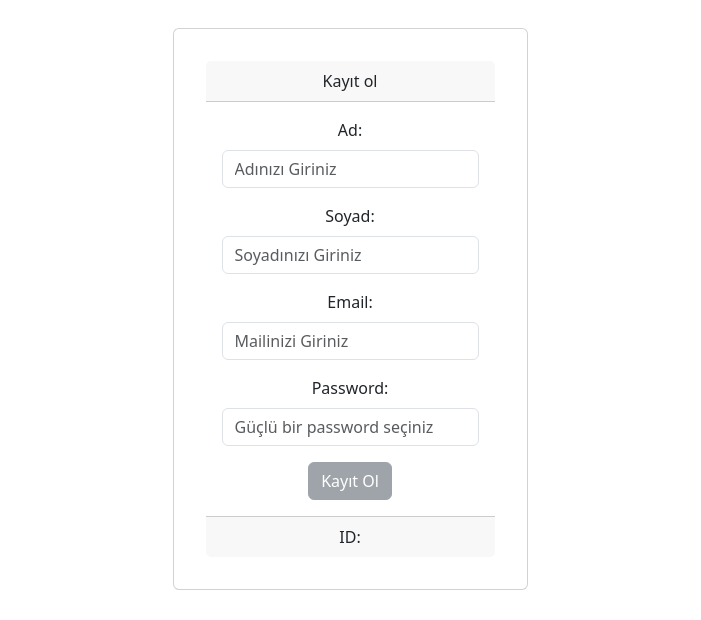
Test: hw-cı Page › Error Messages › password input thr0ws error for 1234
Type "1234" into the password field with test id "password-input".
click(351, 427); type("1234")  # box [222,408,479,446]
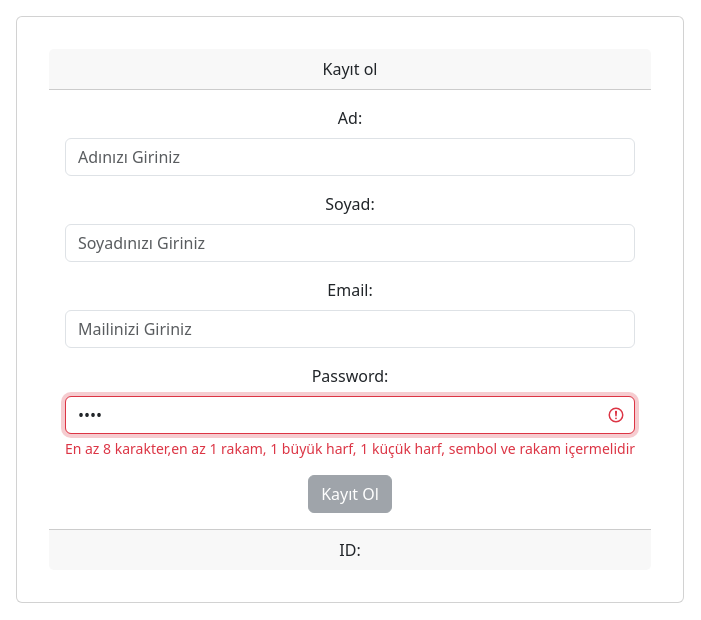
Result: the text "En az 8 karakter,en az 1 rakam, 1 büyük harf, 1 küçük harf, sembol ve rakam içermelidir" is shown at [65,439,635,458]
